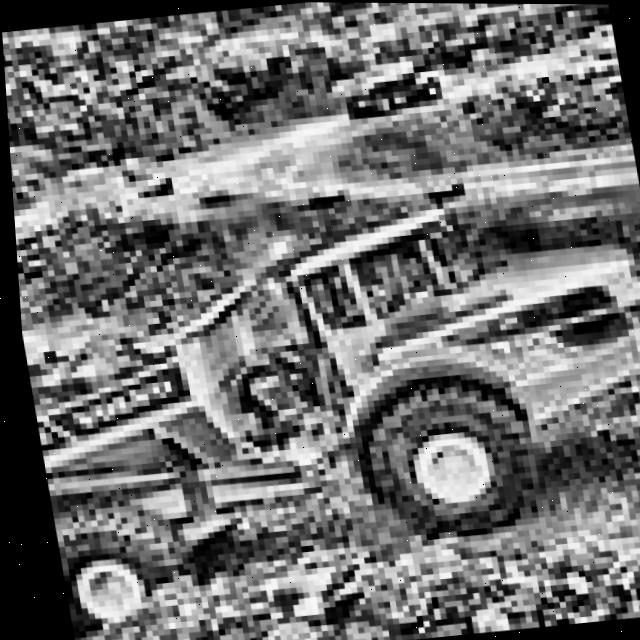dump_truck: (9, 178, 640, 640)
